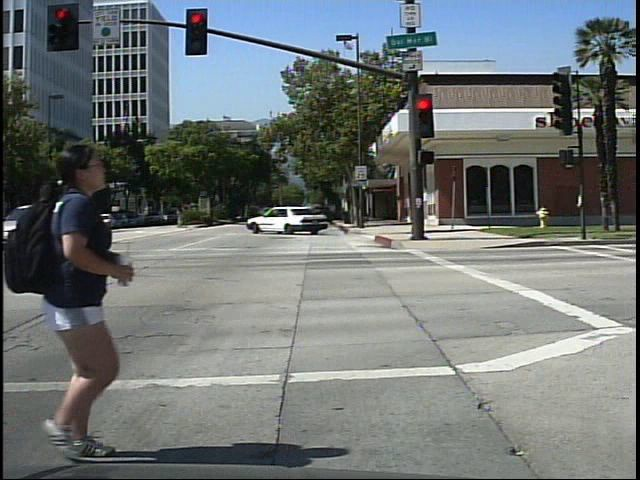person: (17, 133, 141, 466)
